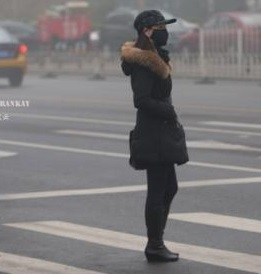person: (110, 6, 193, 266)
